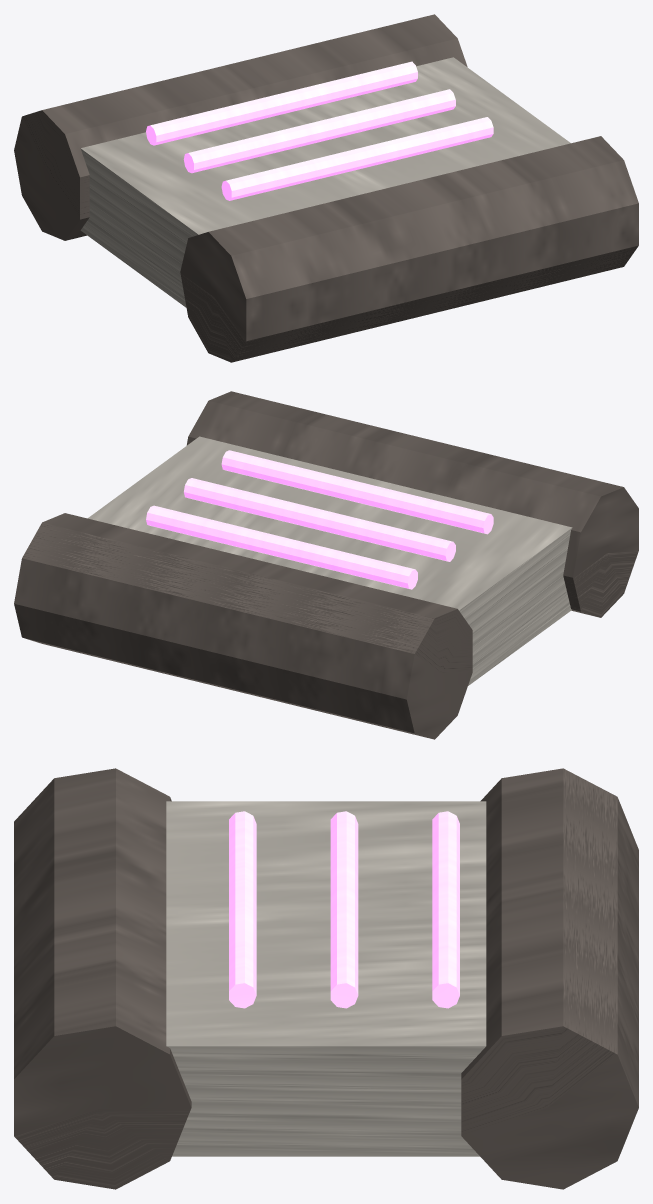
File: scroll.glb
3 views of the same model, one above another, from view 1: azimuth 30°, elevation 25°; view 2: azimuth 150°, elevation 25°; view 3: azimuth 270°, elevation 25° (orthographic). The views are drawn at different scales.
Visible parts, largest first — view 1: wood, bone, glowviolet; view 2: wood, bone, glowviolet; view 3: wood, bone, glowviolet.
Part boxes in pixels (<box>): wood: <box>14,14,638,362</box>; bone: <box>80,57,570,307</box>; glowviolet: <box>146,61,493,200</box>; wood: <box>14,391,638,739</box>; bone: <box>88,436,572,685</box>; glowviolet: <box>146,450,493,589</box>; wood: <box>14,768,638,1189</box>; bone: <box>166,801,486,1156</box>; glowviolet: <box>229,811,459,1008</box>.
Bounding box in the file's own units: 0.6 × 0.1774 × 0.6146.
3 materials, 3 textured.
